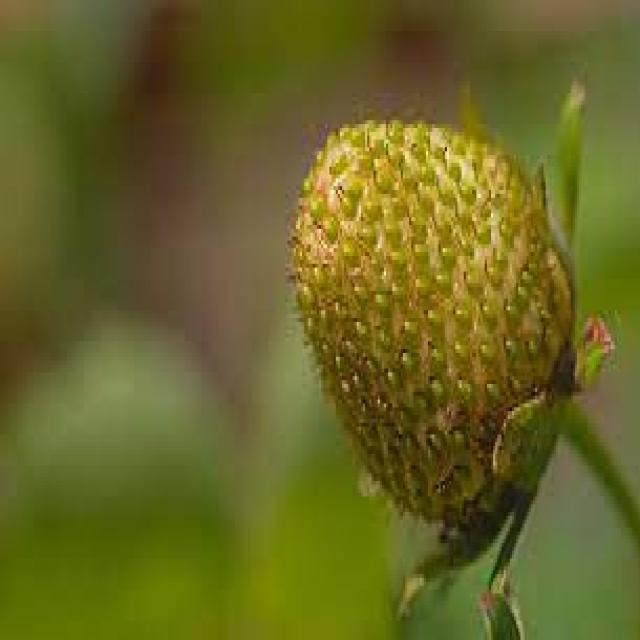Healthy Fruit: (285, 97, 566, 531)
